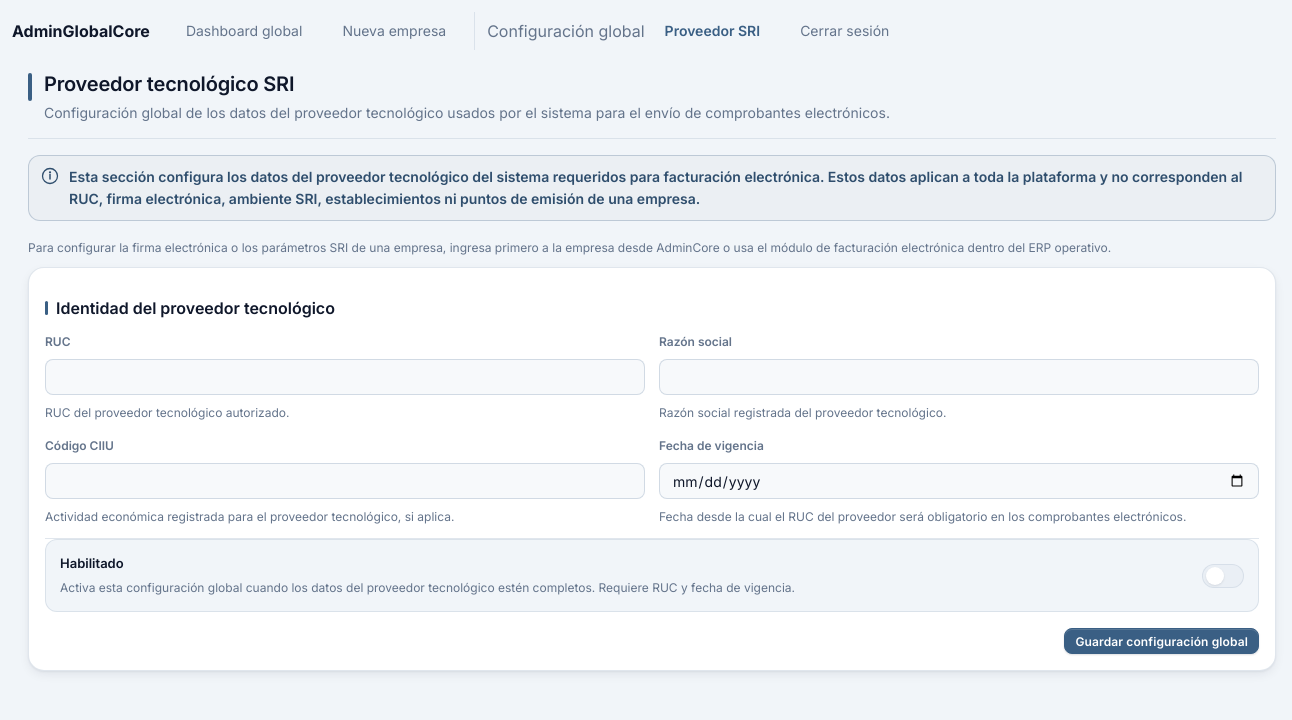
AdminCoreSystemProviderSettingsPage › guarda cambios correctamente y muestra el mensaje de éxito
In the field labelled "RUC RUC del proveedor tecnológico autorizado.": (345,377) left=45, top=359, right=645, bottom=395, type "1790012345001"
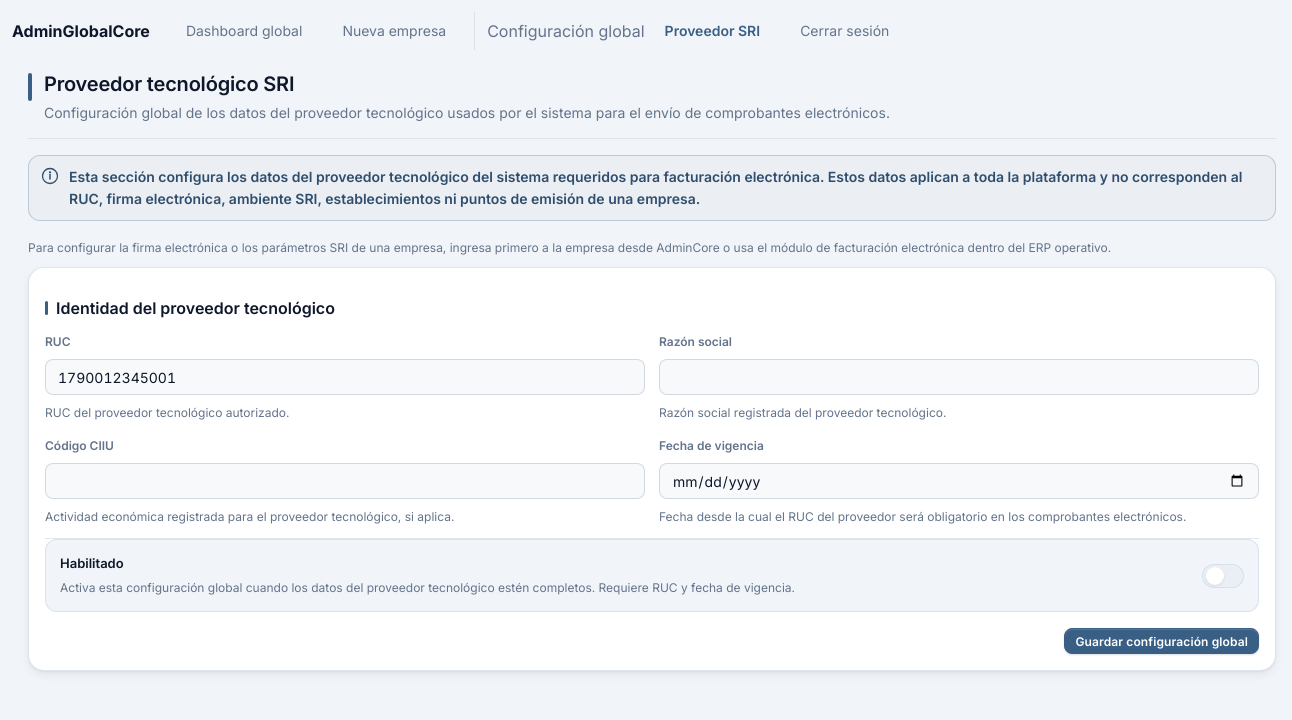
In the field labelled "Razón social": (959,377) left=659, top=359, right=1259, bottom=395, type "ZH Technologies"
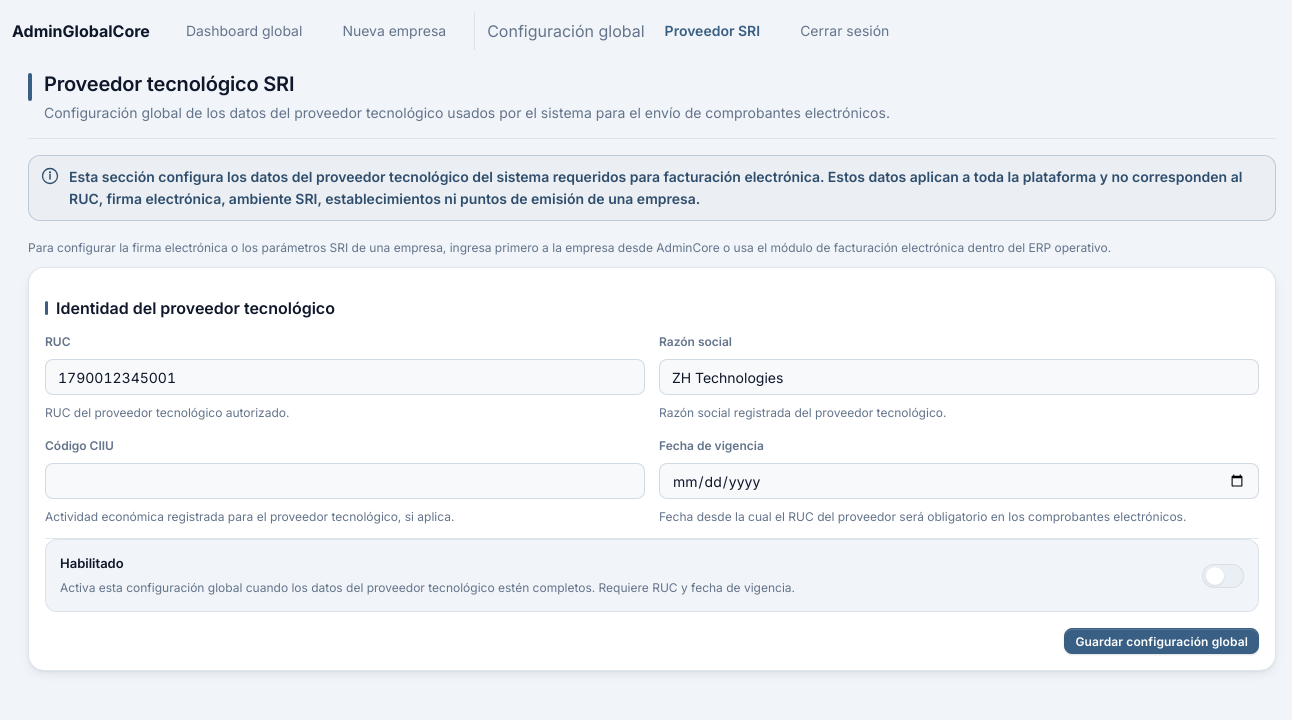
In the field labelled "Código CIIU": (345,481) left=45, top=463, right=645, bottom=499, type "J6201"
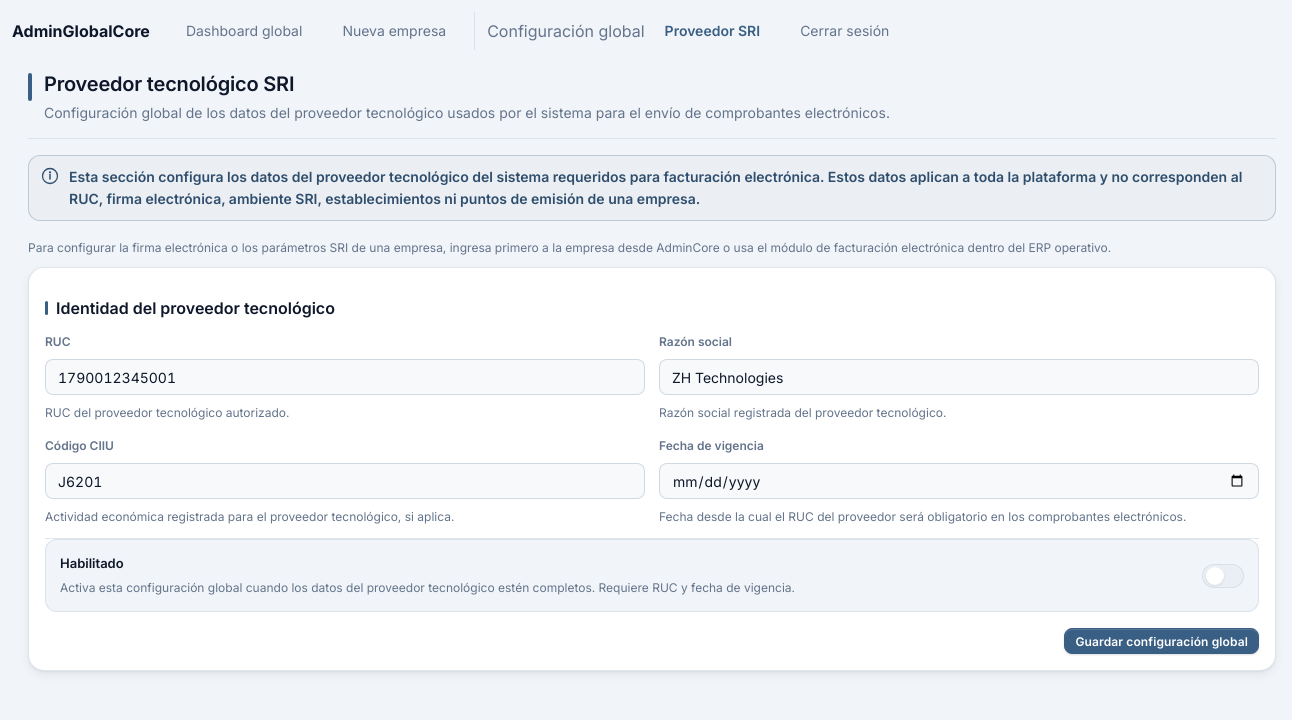
Click the button "Guardar configuración global": (1162,641) left=1064, top=628, right=1259, bottom=654
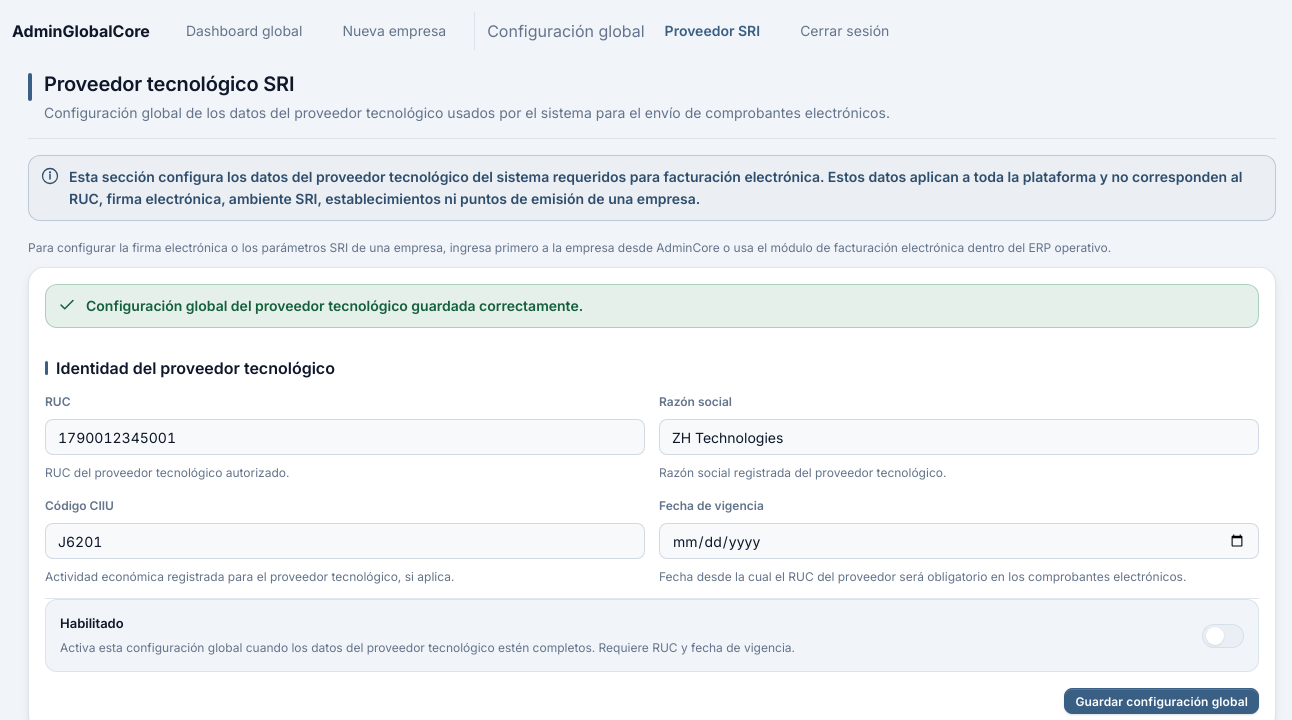
Expected: the text "Configuración global del proveedor tecnológico guardada correctamente." is shown, left=86, top=295, right=583, bottom=317
